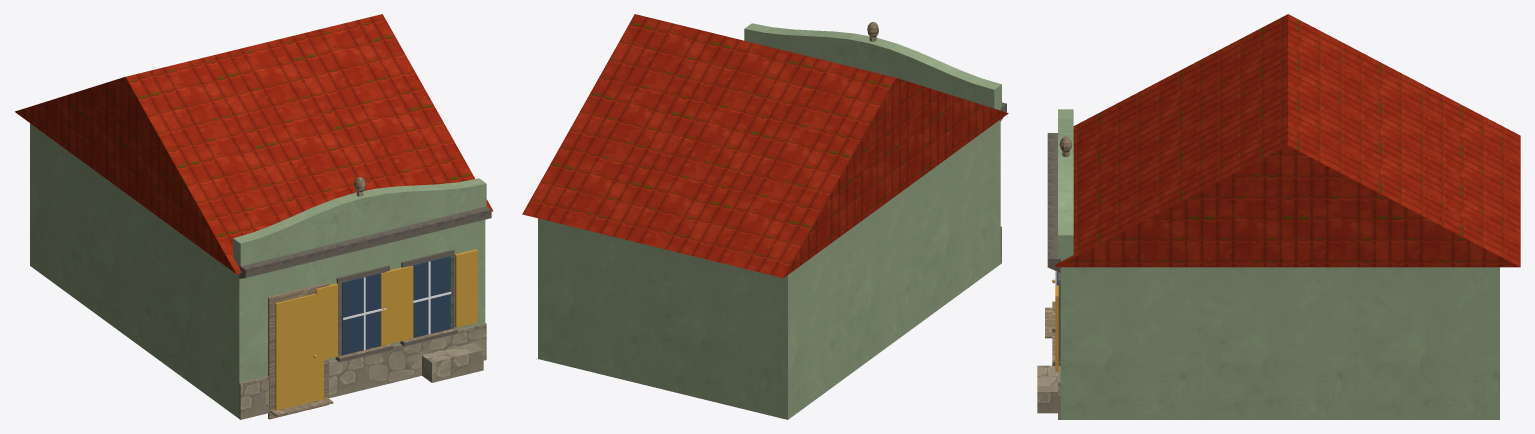
File: terrea_w6_2.gltf
3 views of the same model, side by side, from view 1: azimuth 30°, elevation 25°; view 2: azimuth 150°, elevation 25°; view 3: azimuth 270°, elevation 25° (orthographic). The views are drawn at different scales.
Visible parts, largest first — view 1: terrea_w6_2; view 2: terrea_w6_2; view 3: terrea_w6_2.
Boxes of the visible parts, bbox=[...] form: terrea_w6_2: bbox=[15, 14, 493, 419]; terrea_w6_2: bbox=[522, 14, 1008, 419]; terrea_w6_2: bbox=[1037, 14, 1520, 419].
Size of what is drawn, in the model's own units: 5.96 by 5.99 by 9.25.
7 materials, 4 textured.
